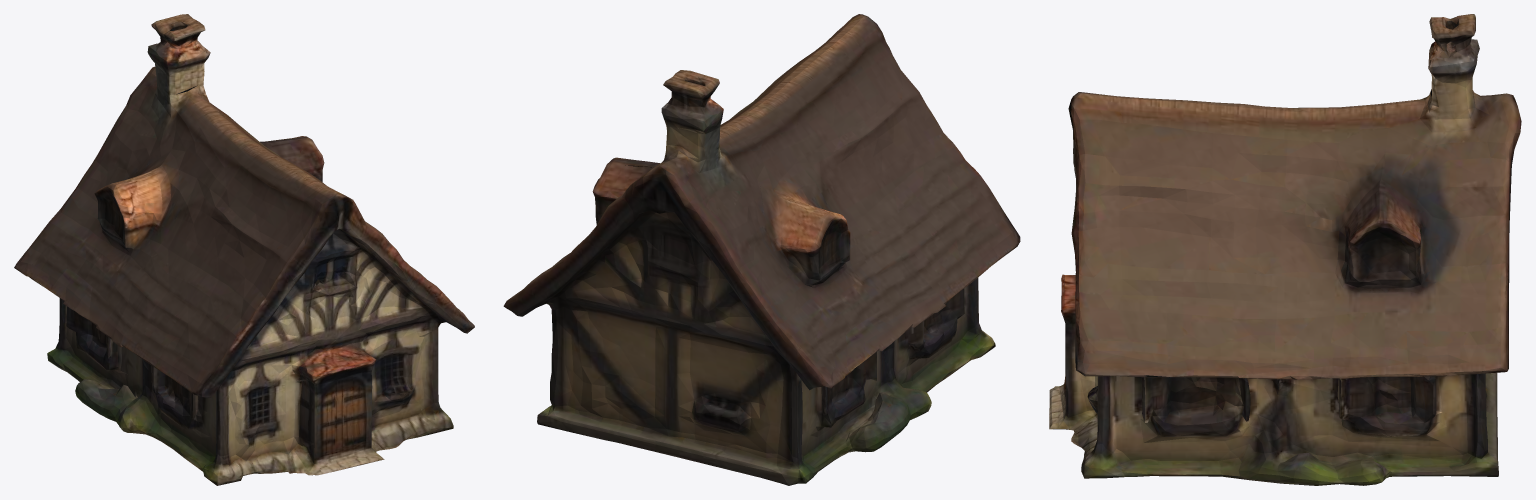
File: house_dark_roof_lod0.glb
3 views of the same model, side by side, from view 1: azimuth 30°, elevation 25°; view 2: azimuth 150°, elevation 25°; view 3: azimuth 270°, elevation 25° (orthographic). The views are drawn at different scales.
Parts seen in each view (by area): view 1: house_dark_roof_lod0; view 2: house_dark_roof_lod0; view 3: house_dark_roof_lod0.
Boxes of the visible parts, box(x1,y1,x2,y2) form: house_dark_roof_lod0: box(14, 14, 474, 485); house_dark_roof_lod0: box(503, 14, 1020, 485); house_dark_roof_lod0: box(1049, 14, 1521, 485).
Size of the model in its own units: 6.1 by 6.5 by 7.15.
1 material, 1 textured.
